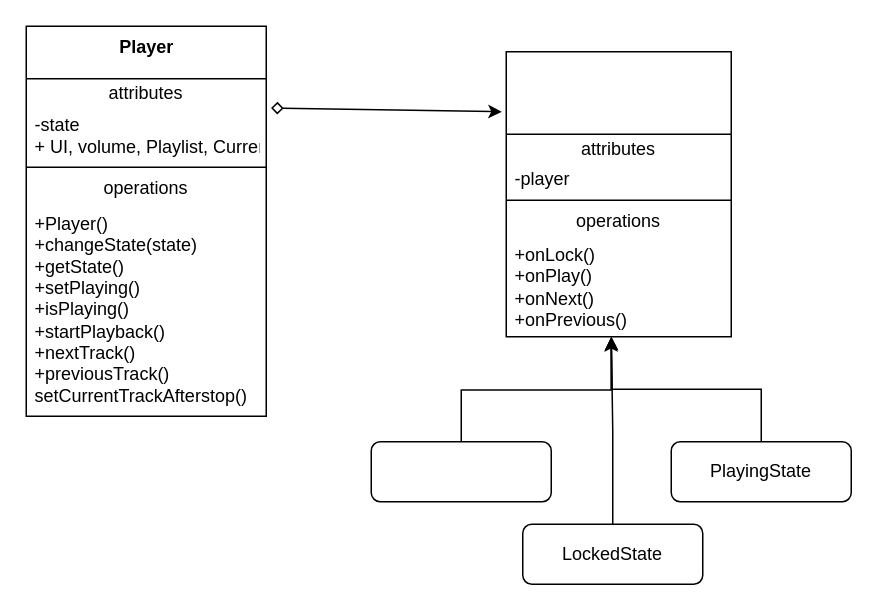
Image size: 878x611. Some labels were removed from this diagram. The shapes that lost their labels are listed below. From the top down, each one's box as (x1, y1, x2, y2) in pixels, then its label:
(505, 50, 731, 337): <<interface>> State
(370, 440, 551, 502): ReadyState
